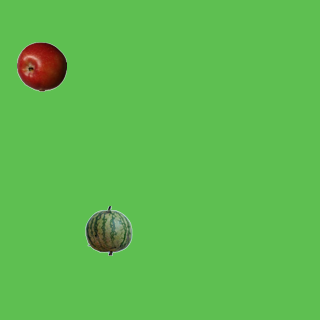Apple Braeburn: (16, 41, 66, 91)
Watermelon: (83, 205, 133, 255)
